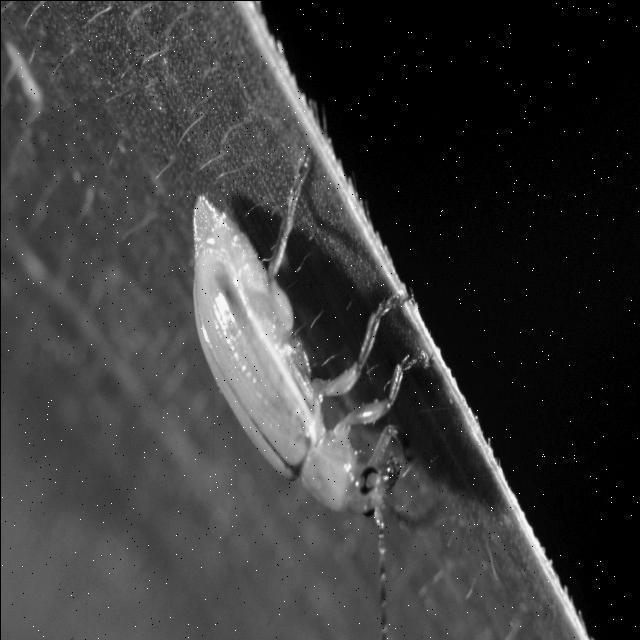gusano_gris: (174, 166, 446, 640)
